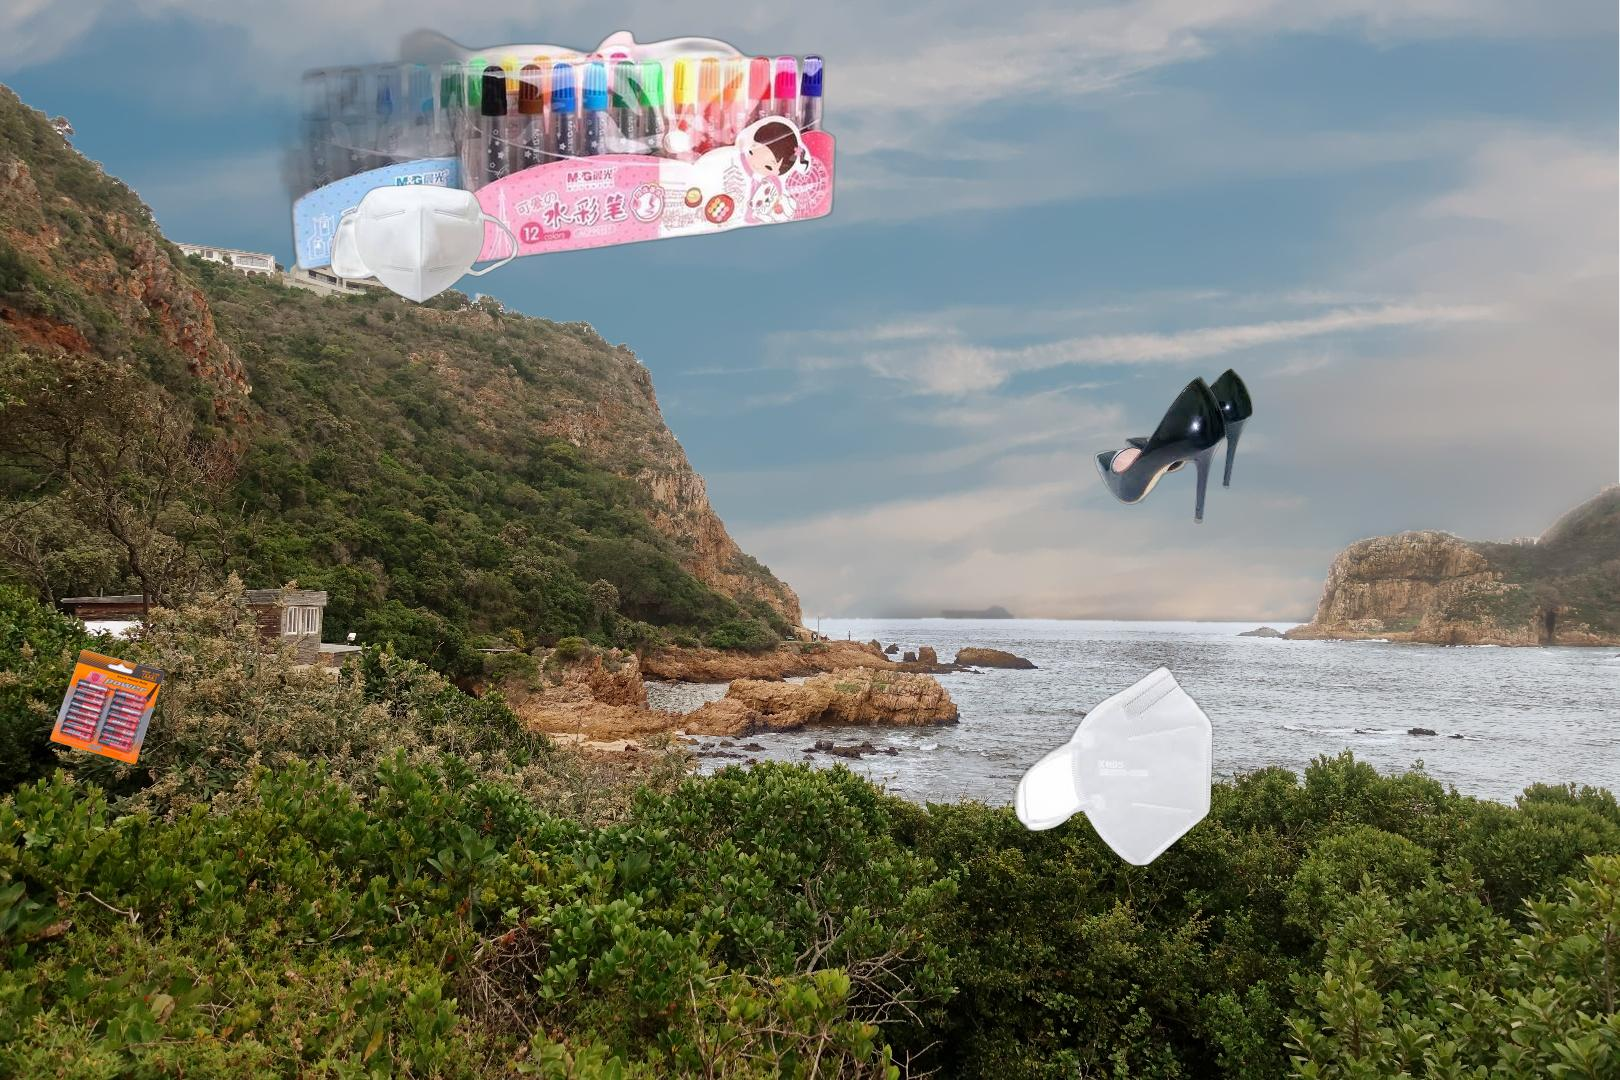battery: (47, 646, 168, 767)
penholder: (252, 19, 841, 275)
shoes: (1091, 366, 1255, 526)
trash: (1010, 664, 1216, 886), (328, 181, 521, 305)
